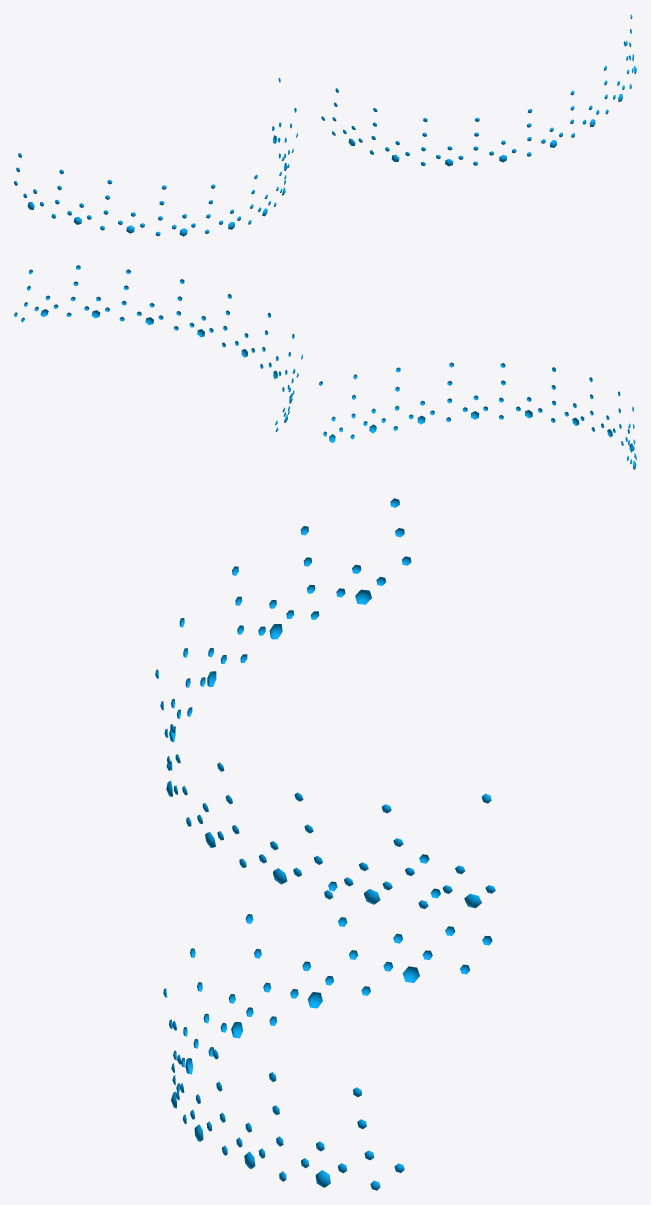
Rendered from crystals-front_side-slit.glb.
The picture shows the model from 3 angles, top to bottom: view 1: azimuth 30°, elevation 25°; view 2: azimuth 150°, elevation 25°; view 3: azimuth 270°, elevation 25°; orthographic projection. The views are drawn at different scales.
Visible parts, largest first — view 1: crystals-front; view 2: crystals-front; view 3: crystals-front.
Boxes of the visible parts, x1,y1,x2,y2 form: crystals-front: (14, 14, 636, 236); crystals-front: (14, 265, 636, 469); crystals-front: (155, 498, 495, 1190).
Size of the model in its own units: 2.1 by 0.2705 by 0.5091.
